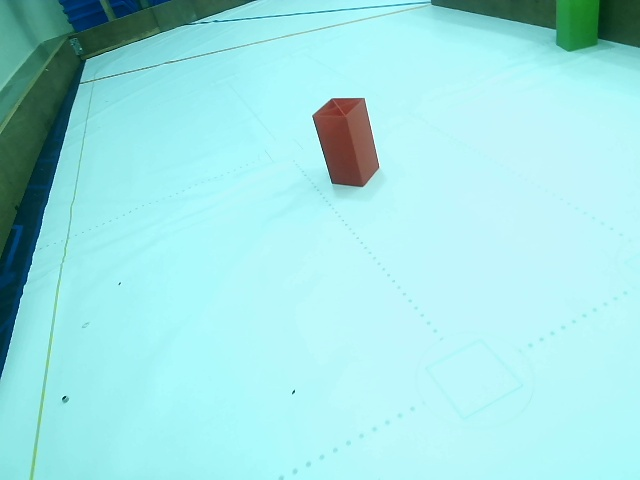red: (322, 100, 376, 181)
